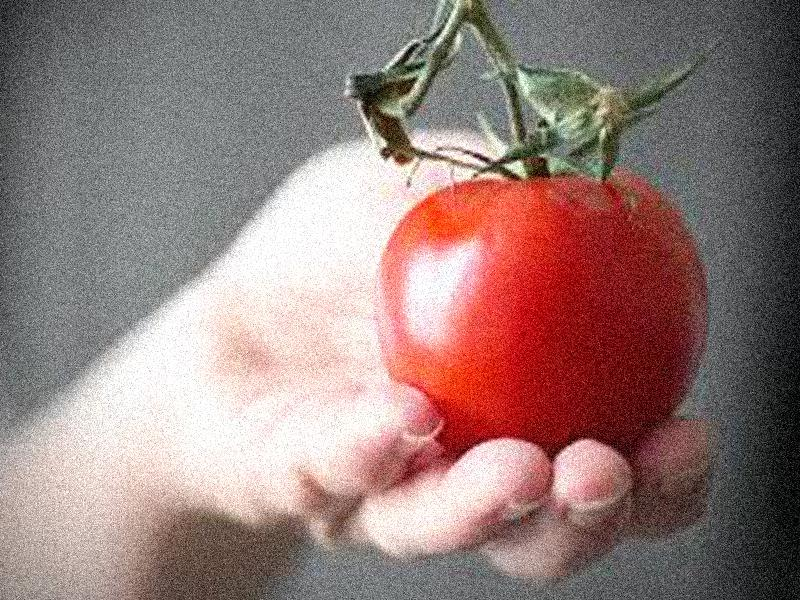Tomato: (377, 164, 709, 456)
